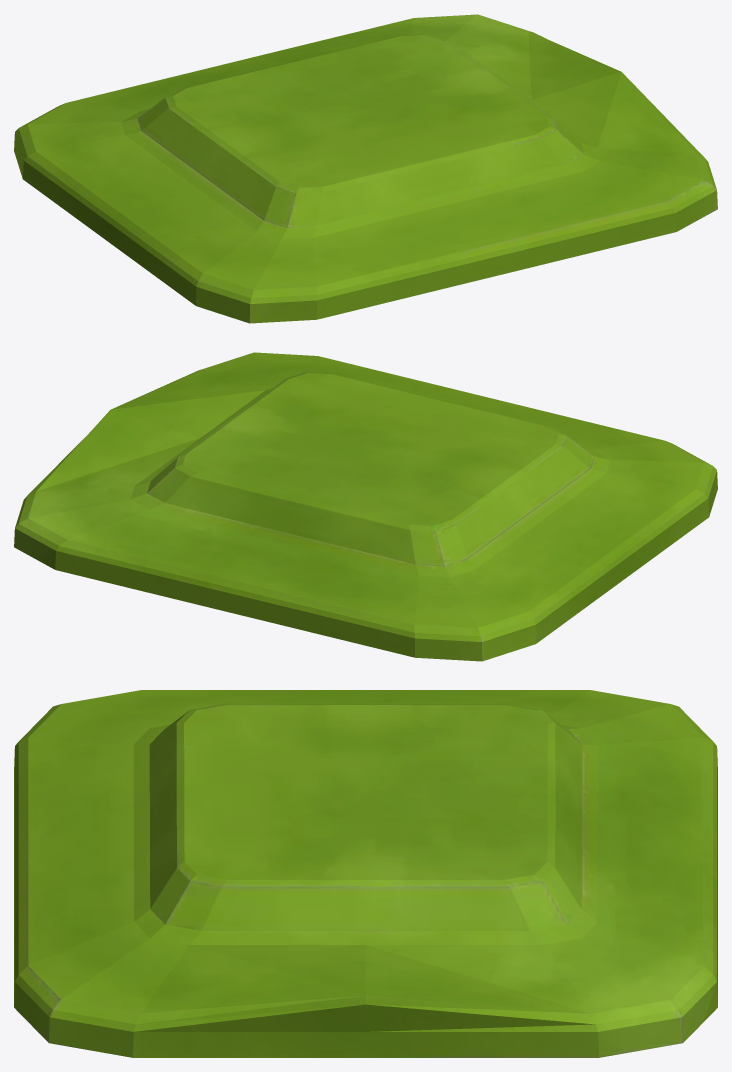
Rendered from strProp_38.glb.
3 renders of one model, top to bottom at view 1: azimuth 30°, elevation 25°; view 2: azimuth 150°, elevation 25°; view 3: azimuth 270°, elevation 25°, orthographic. The views are drawn at different scales.
Visible parts, largest first — view 1: geometry_0; view 2: geometry_0; view 3: geometry_0.
Boxes of the visible parts, x1=… form: geometry_0: x1=14, y1=14, x2=717, y2=323; geometry_0: x1=14, y1=352, x2=717, y2=661; geometry_0: x1=14, y1=690, x2=717, y2=1057.
Size of the model in its own units: 0.6011 by 0.0779 by 0.529.
Materials: 1 (1 with a texture image).
